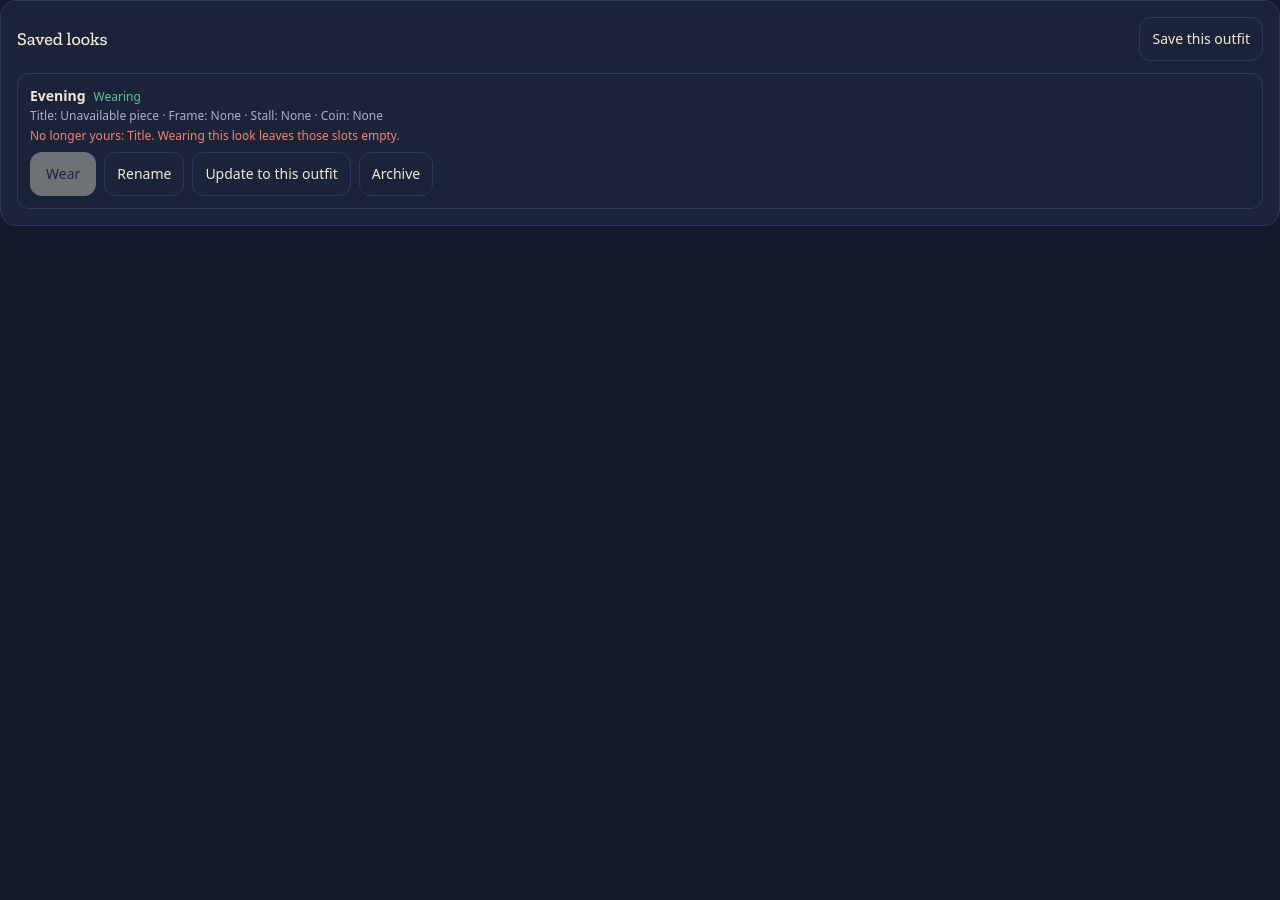
Test: saved look panel › requires a review confirmation before replacing saved pieces
Expected: the element "Evening" is shown, x1=17 y1=73 x2=1263 y2=209
Click the button "Update to this outfit".
click(272, 174)  # box x1=192 y1=152 x2=351 y2=196
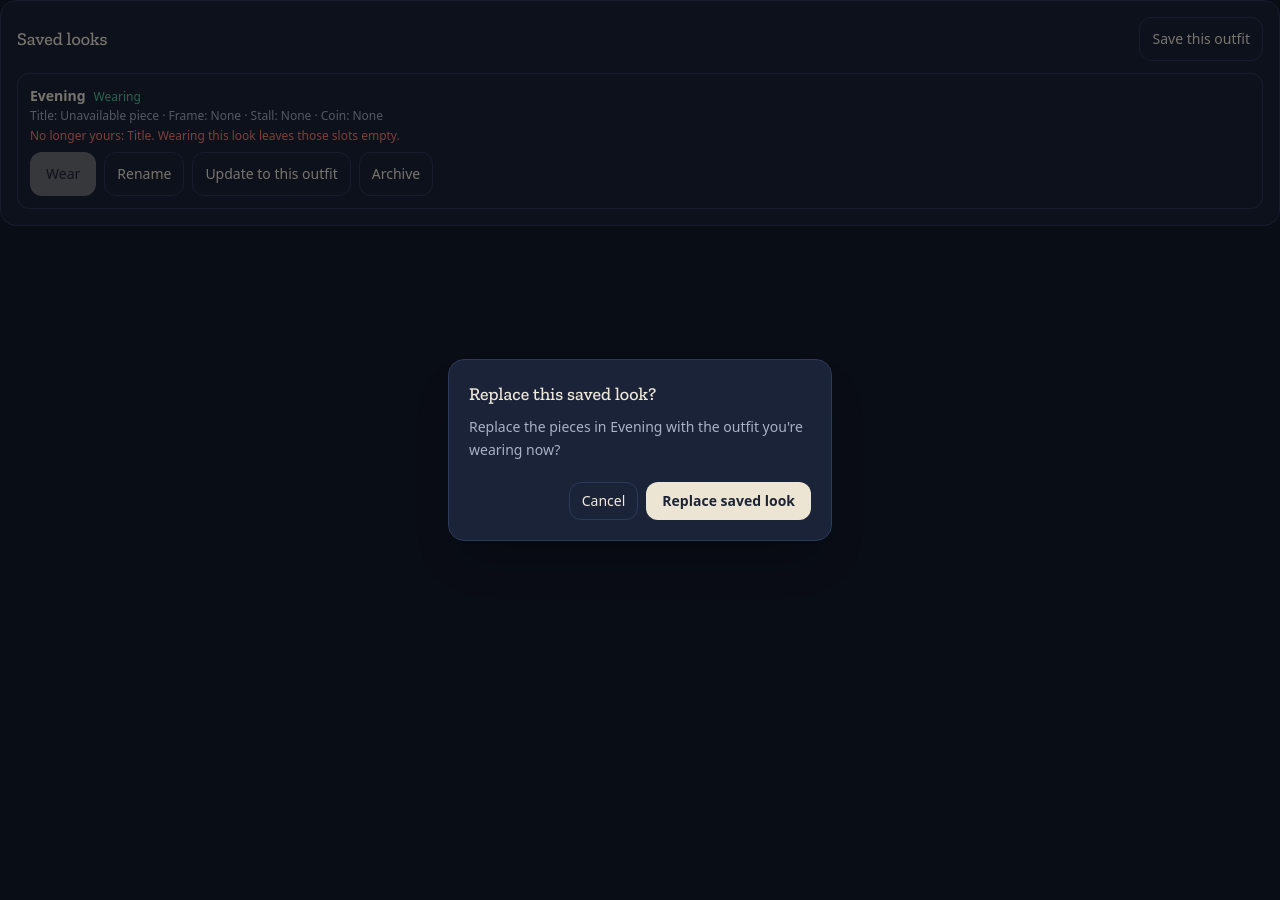
Click the button "Replace saved look".
click(729, 501)  # box x1=646 y1=482 x2=811 y2=520
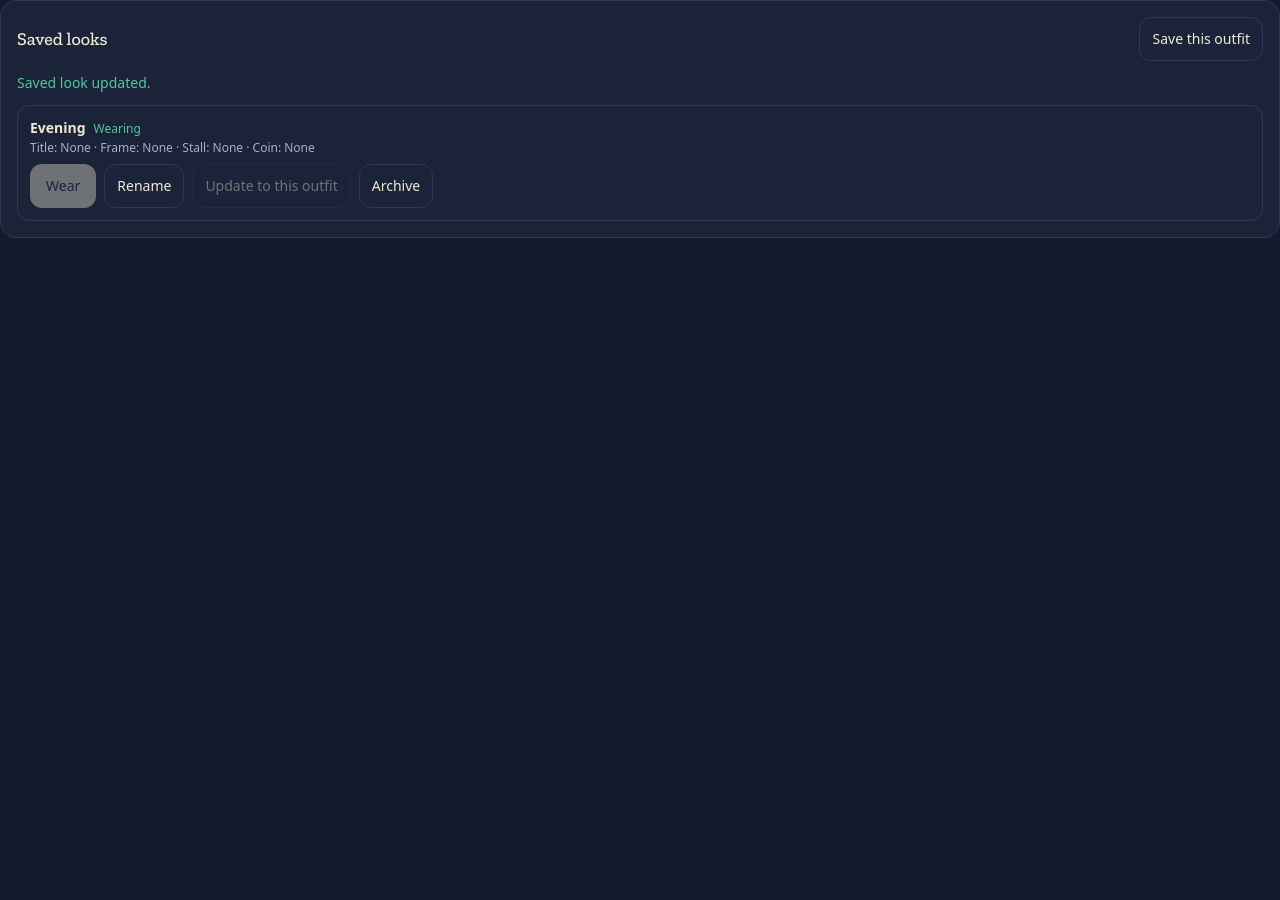
Expected: the text "Saved look updated." is shown, x1=17 y1=73 x2=150 y2=92
